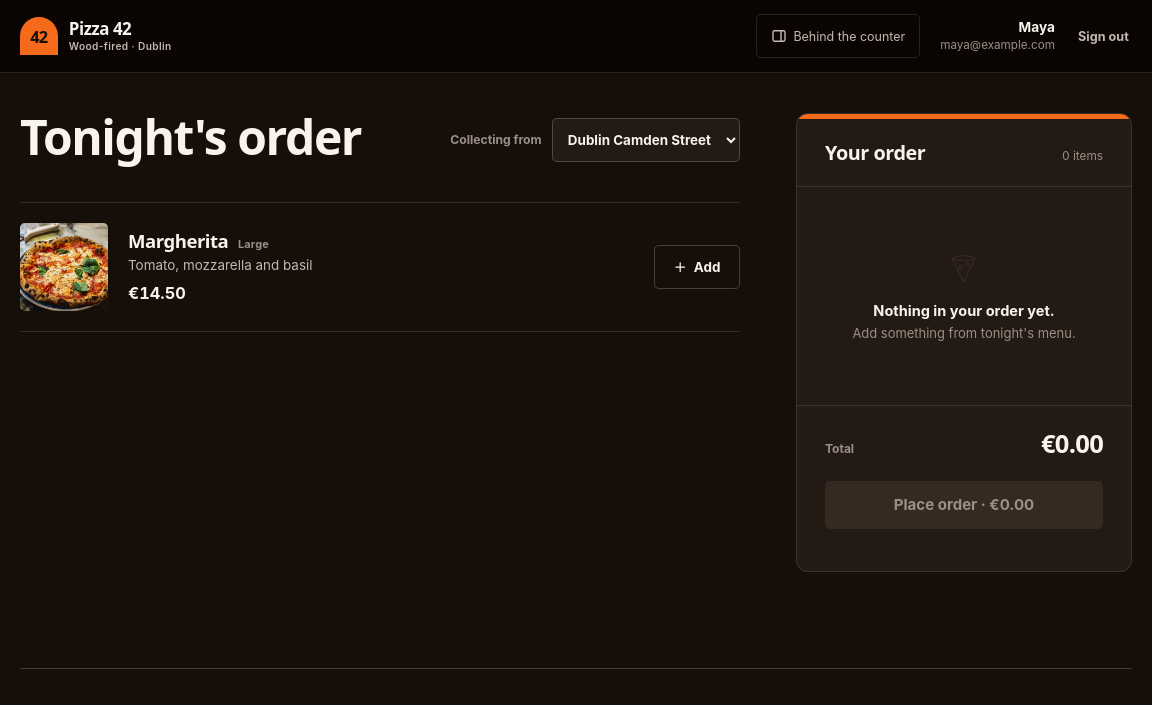
Scenario: Pizza 42 ordering experience › keeps ordering available when the optional marketing simulation fails
The image size is (1152, 705).
Click the button with aria-label "Add Margherita" at [697, 267], box x1=654 y1=245 x2=740 y2=289
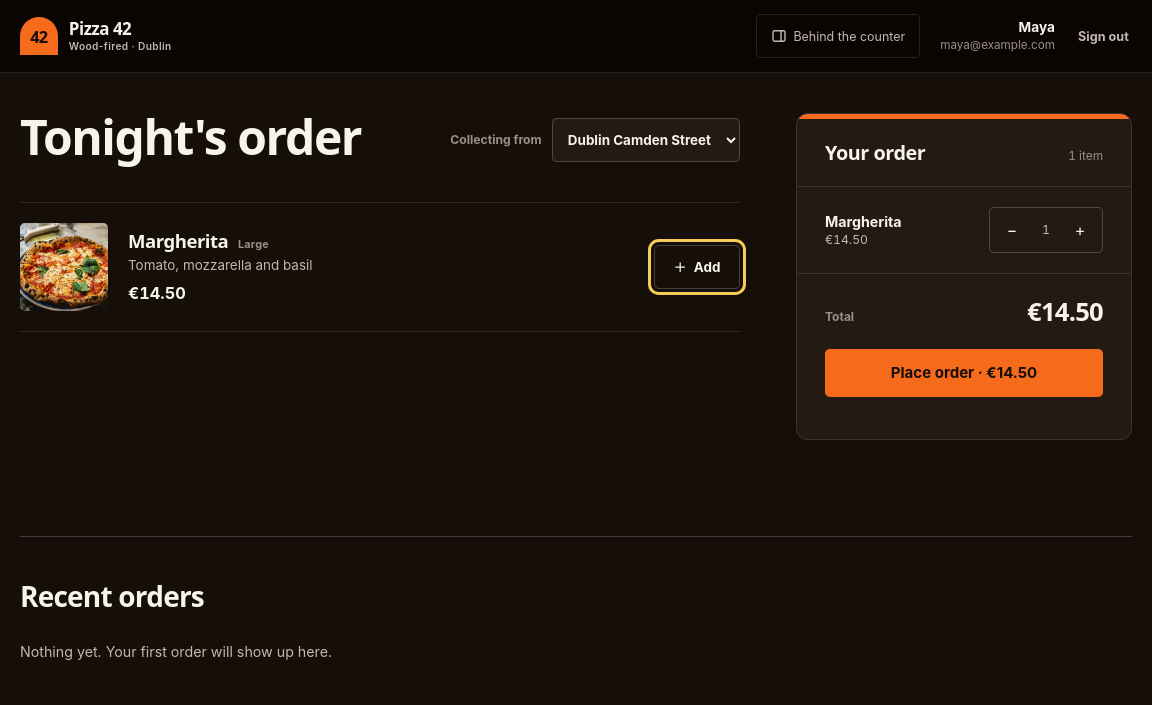
Now the button "Place order · €14.50" is enabled, box x1=825 y1=349 x2=1103 y2=397
Click the button "Behind the counter" at [838, 36], box x1=756 y1=14 x2=920 y2=58
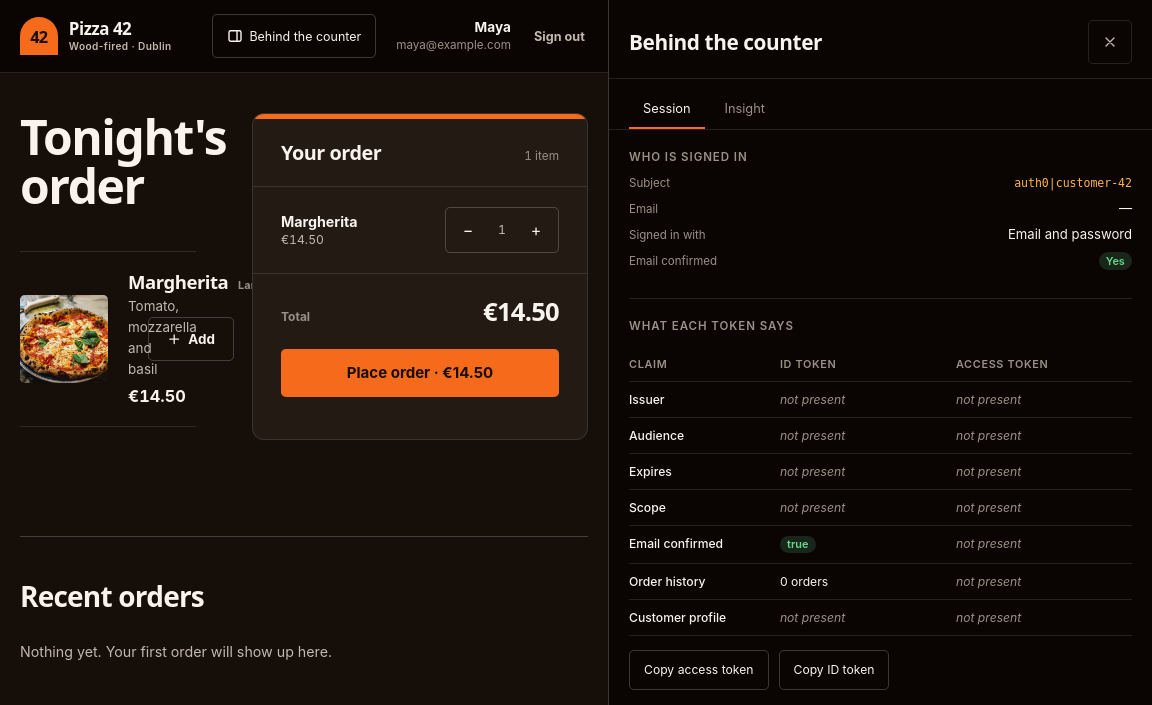
Click the tab "Insight" at [745, 109], box x1=710 y1=89 x2=779 y2=129
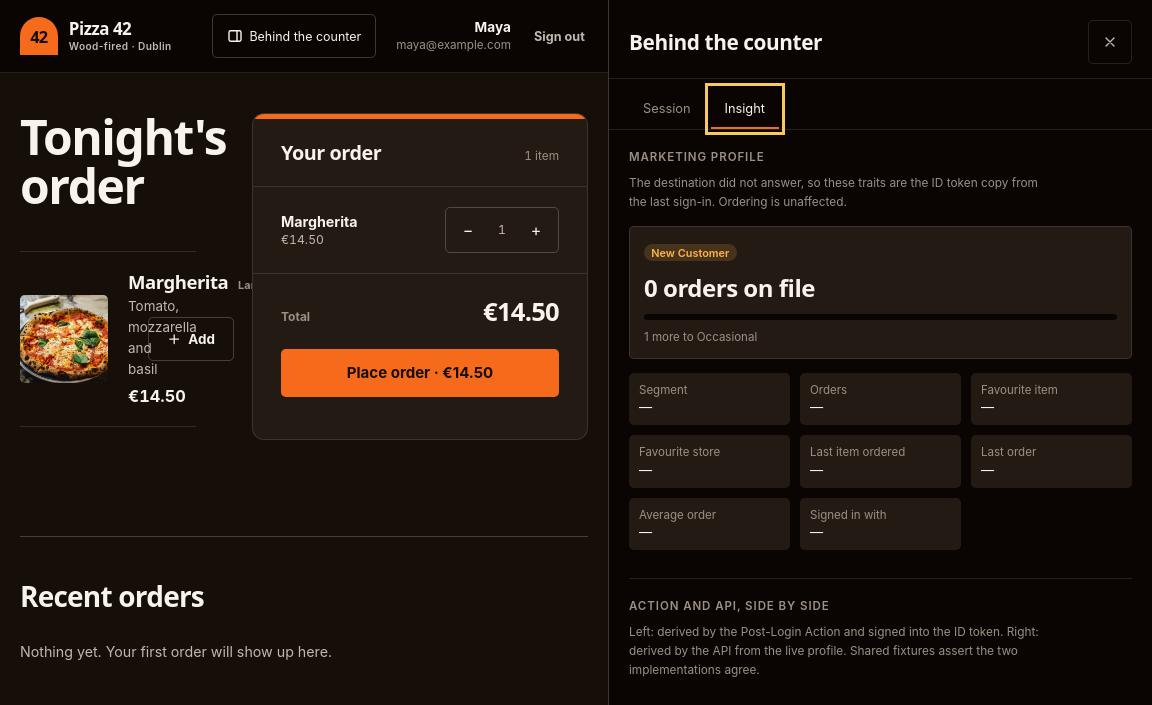
Now the text "destination did not answer" is shown, box x1=629 y1=176 x2=1038 y2=209
